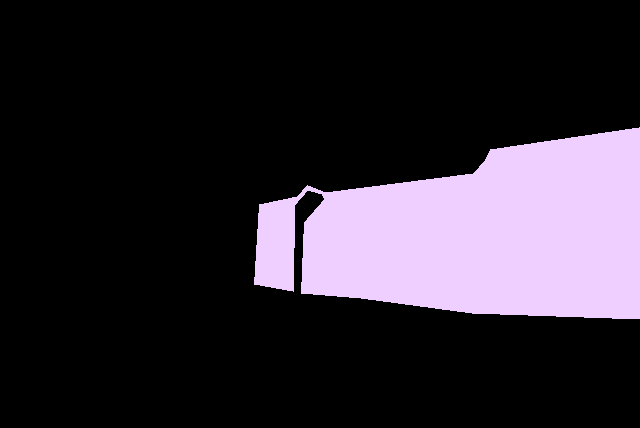Train: (254, 127, 640, 320)
